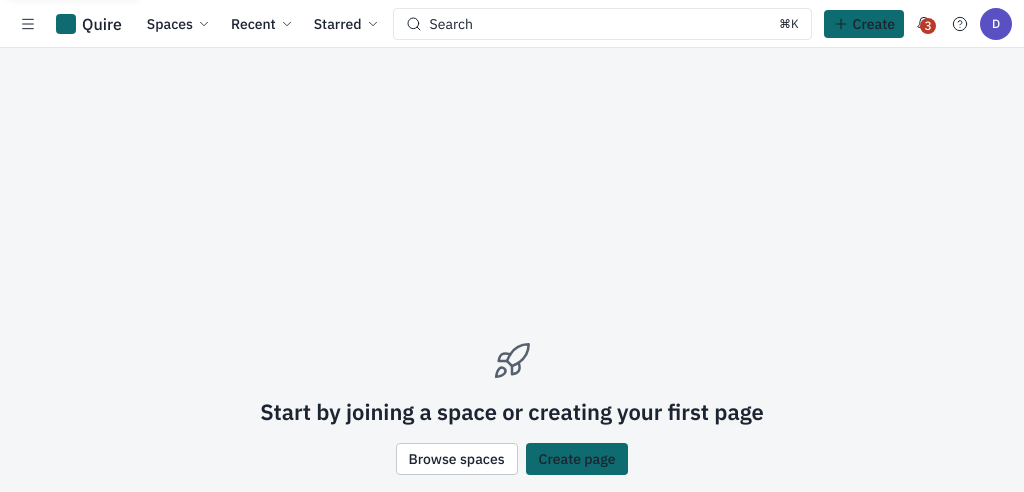
Scenario: People admin › is in the account menu for site admins
Click the button named "Account menu" at x=996, y=24, box left=980, top=8, right=1012, bottom=40
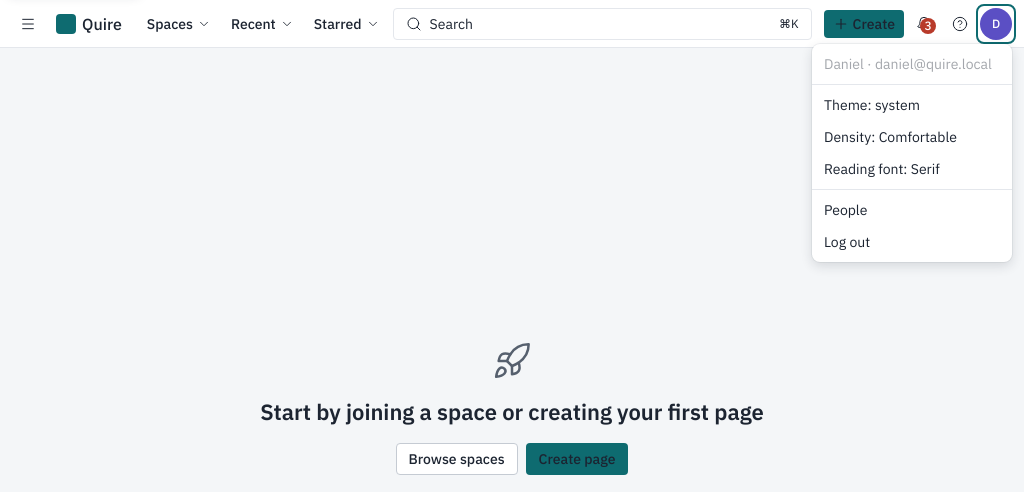
Click the menu item "People" at x=912, y=210, box left=812, top=194, right=1012, bottom=226
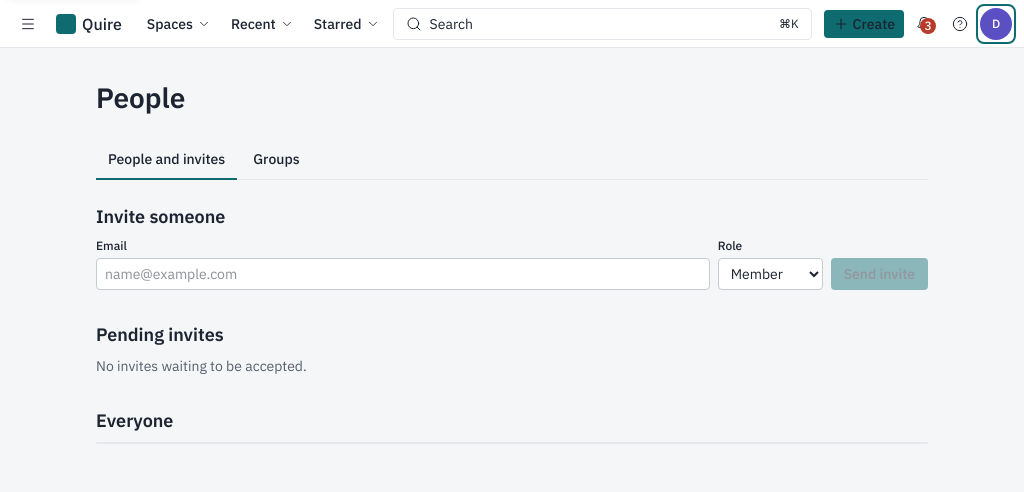
Expected: the heading "People" is shown, left=96, top=79, right=185, bottom=116
